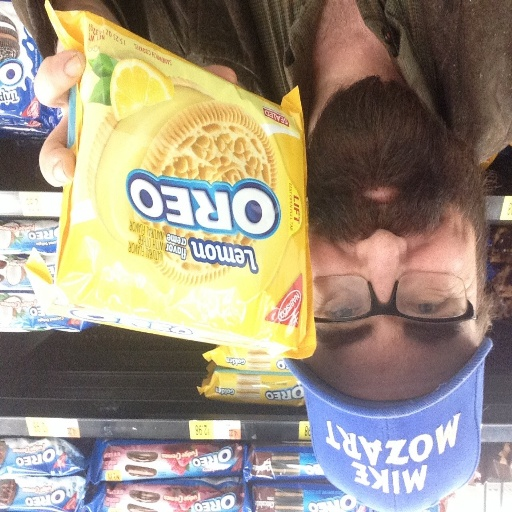hand: (33, 6, 238, 187)
